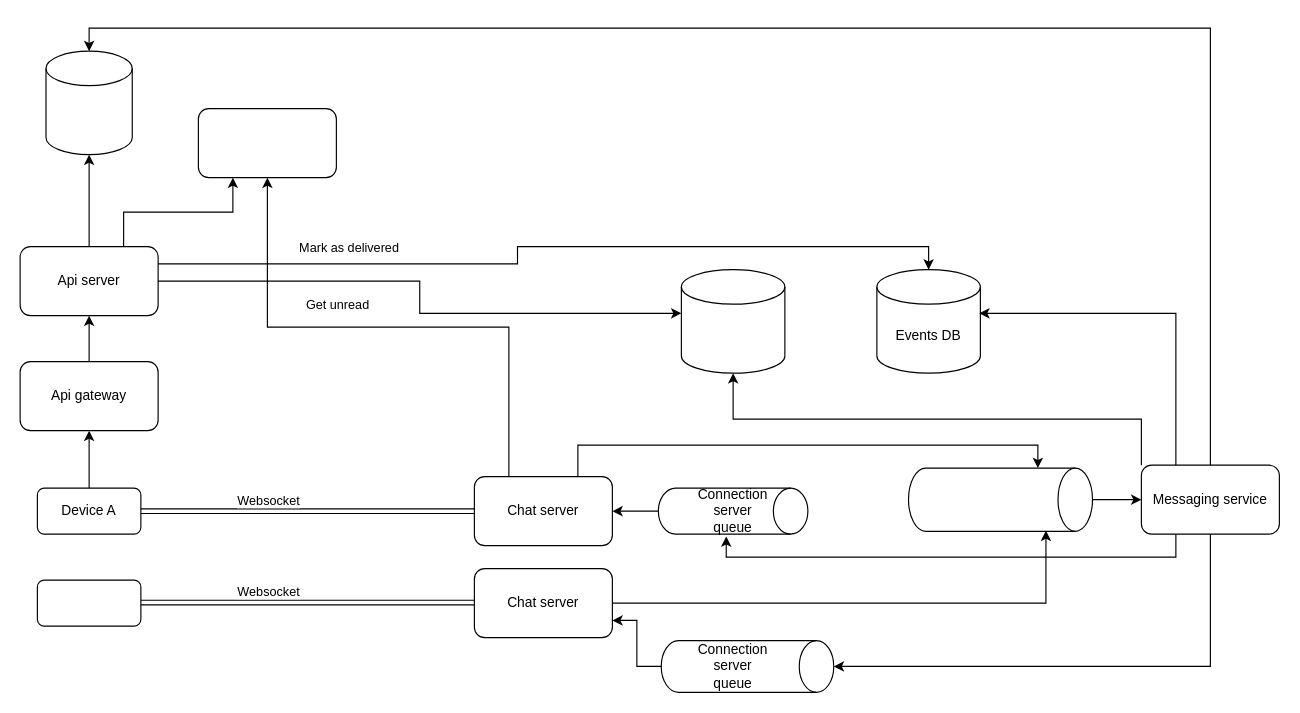
Image size: 1300x713. Some labels were removed from this diagram. The shapes that lost their labels are listed below. From the top down, each one's centre as x and y in pixels, then its label:
At point 88,102: "Users DB".
At point 266,143: "Service discovery for Chat servers".
At point 732,321: "Messages DB".
At point 999,499: "Messaging service queue".
At point 88,602: "Device B".
